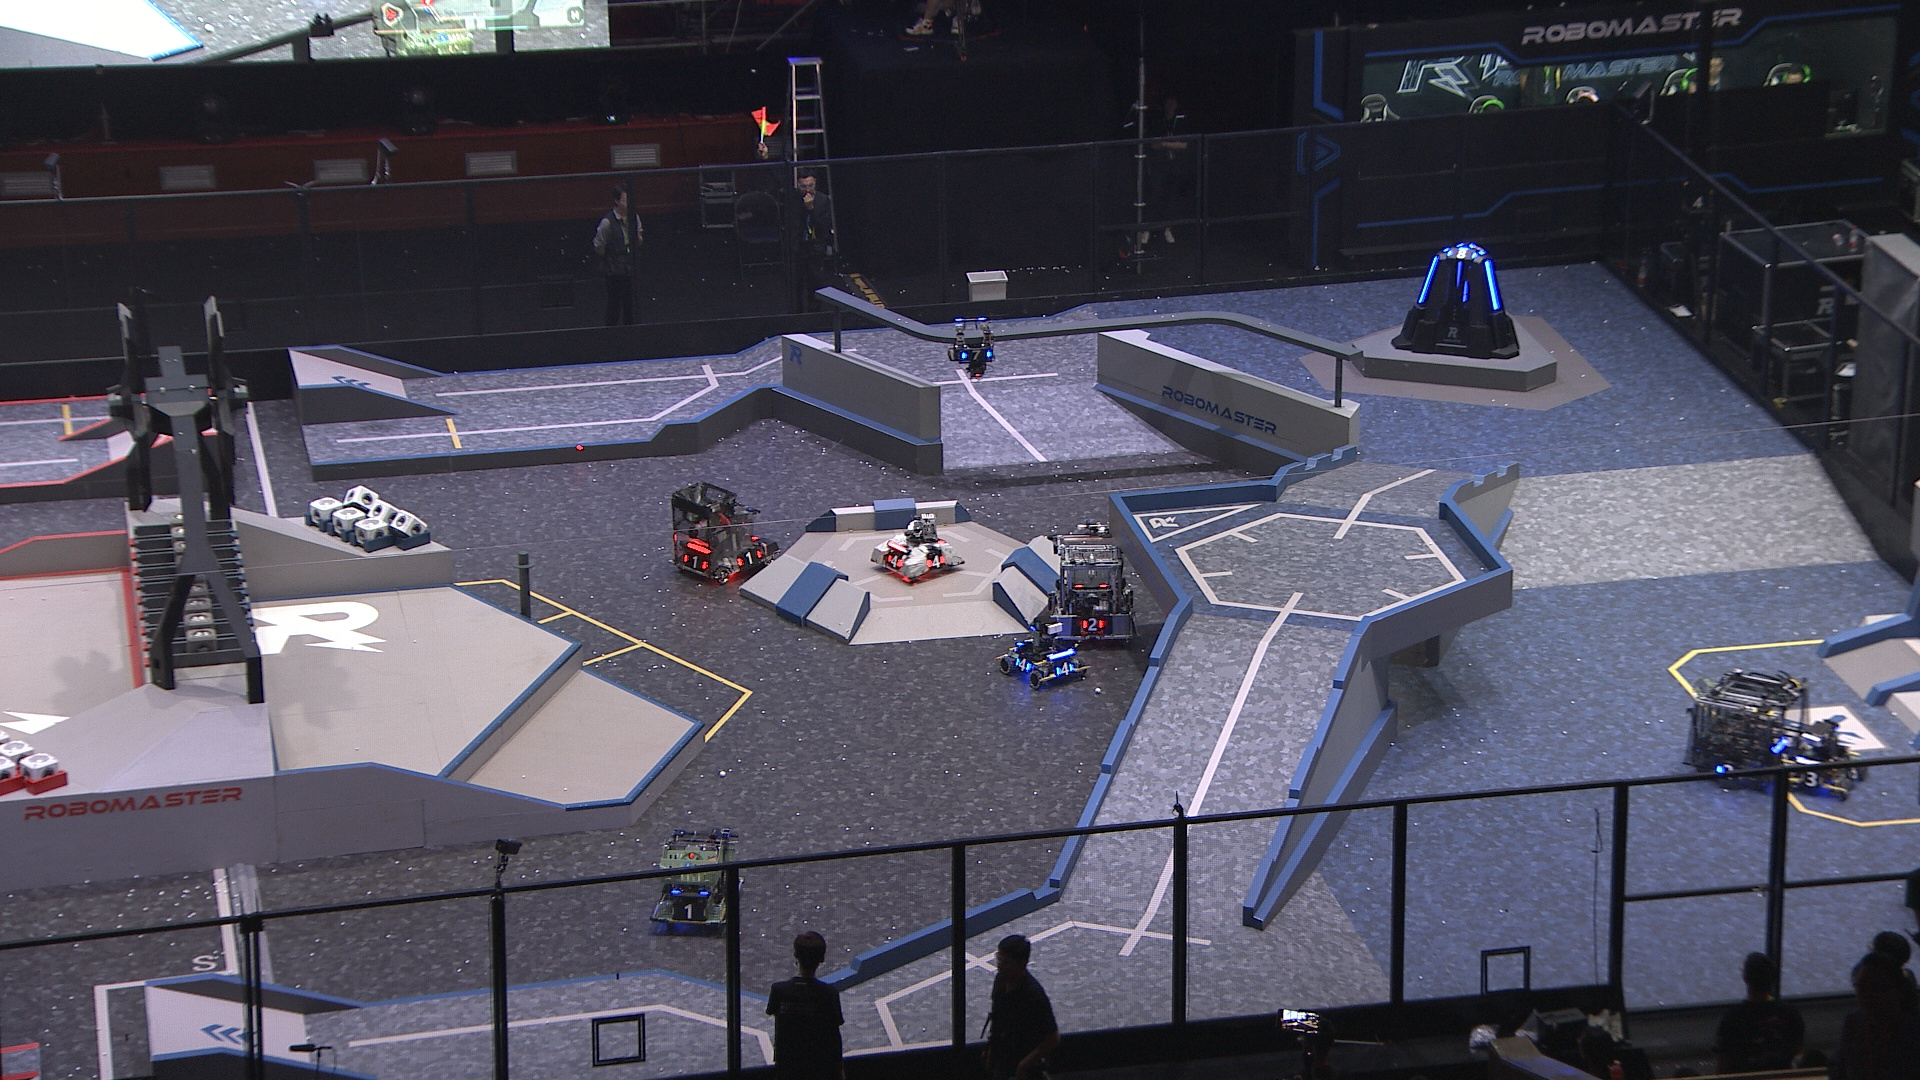armor: (1416, 257, 1443, 306), (1484, 258, 1503, 313), (670, 899, 707, 922), (679, 553, 709, 572), (1444, 245, 1480, 261), (956, 347, 992, 363), (733, 551, 764, 567), (1799, 771, 1822, 790), (1077, 617, 1102, 633), (1455, 261, 1466, 291), (1054, 659, 1073, 676), (1013, 655, 1033, 673), (926, 553, 945, 570), (1712, 761, 1735, 774), (885, 553, 905, 568), (1846, 765, 1863, 782), (1015, 637, 1033, 651)
base: (1389, 243, 1522, 361)
car: (1680, 669, 1809, 790), (666, 483, 779, 585), (1044, 531, 1139, 650), (647, 825, 746, 931), (994, 617, 1095, 688), (1784, 719, 1870, 799), (869, 512, 964, 580)
ignore: (384, 8, 473, 55)
watcher: (944, 316, 996, 380)
